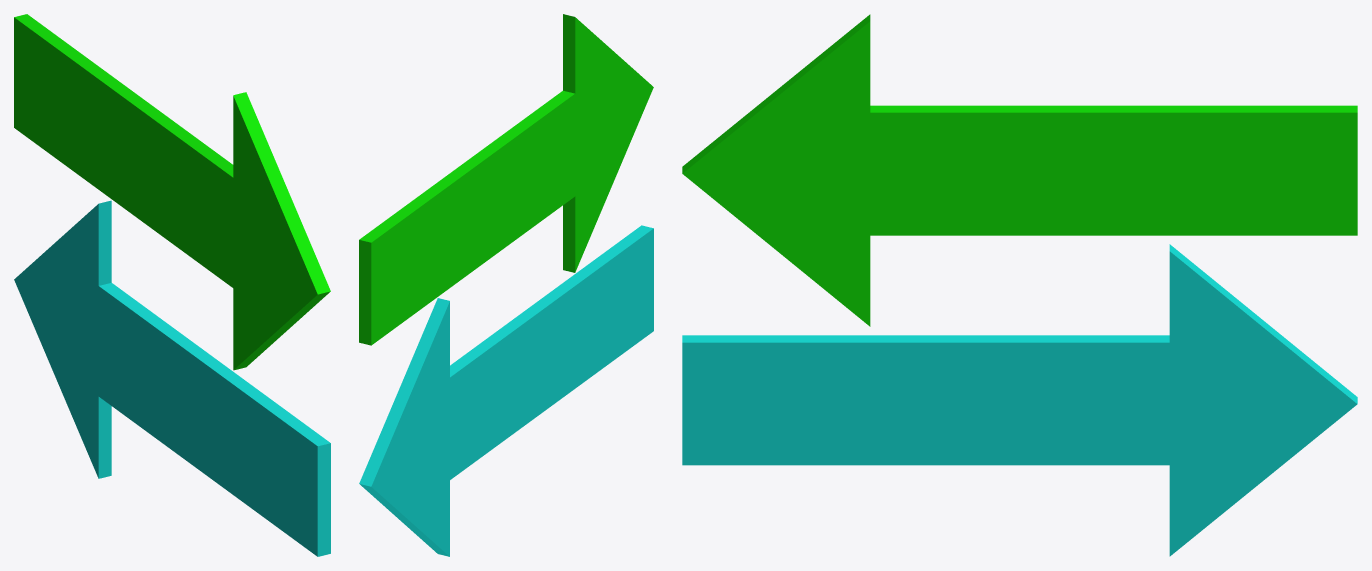
File: Teleporte.fbx
3 views of the same model, side by side, from view 1: azimuth 30°, elevation 25°; view 2: azimuth 150°, elevation 25°; view 3: azimuth 270°, elevation 25° (orthographic). The views are drawn at different scales.
Parts seen in each view (by area): view 1: Teleporte; view 2: Teleporte; view 3: Teleporte.
Boxes of the visible parts, box(x1,y1,x2,y2) form: Teleporte: box(14, 14, 330, 556); Teleporte: box(359, 14, 653, 556); Teleporte: box(682, 14, 1357, 556).
Bounding box in the file's own units: 1 × 35.03 × 40.
